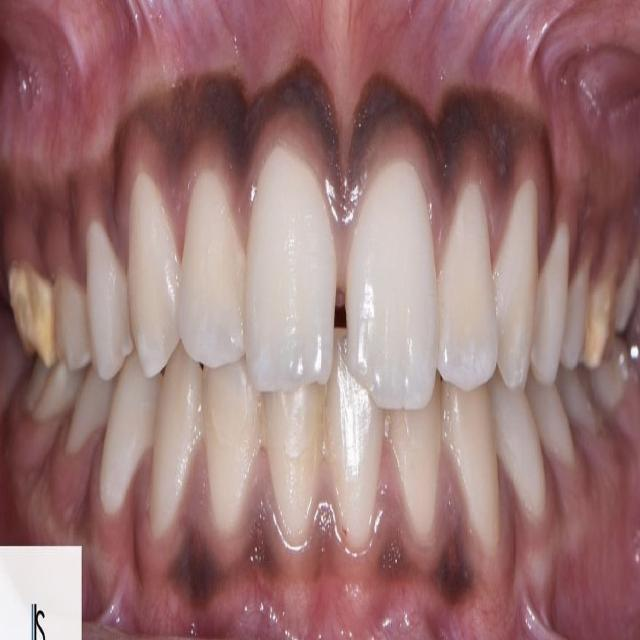tooth: (237, 148, 350, 403), (341, 180, 441, 405), (116, 188, 183, 379), (442, 189, 504, 386), (183, 169, 246, 359), (452, 402, 506, 563), (493, 184, 540, 364), (263, 389, 333, 509), (332, 381, 379, 537), (100, 371, 149, 519), (498, 378, 546, 519), (201, 382, 248, 518), (390, 430, 452, 531), (536, 217, 572, 378), (158, 390, 188, 542), (86, 246, 125, 348), (56, 274, 89, 364)
